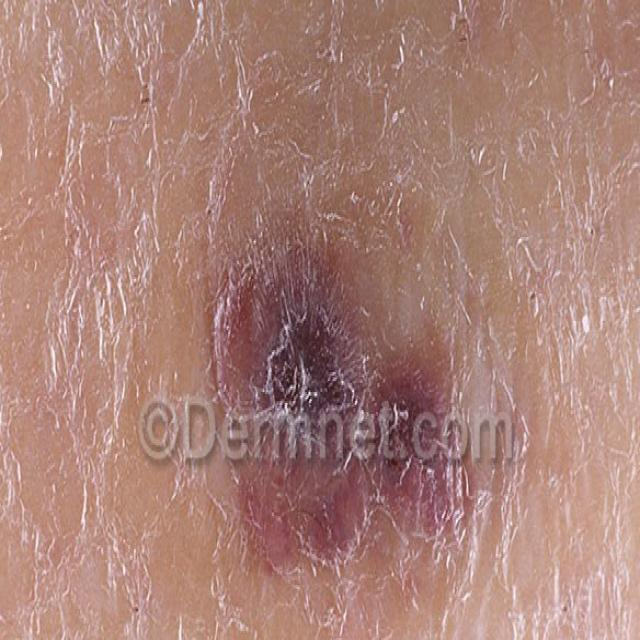Vascular Tumors: (211, 197, 480, 581)
